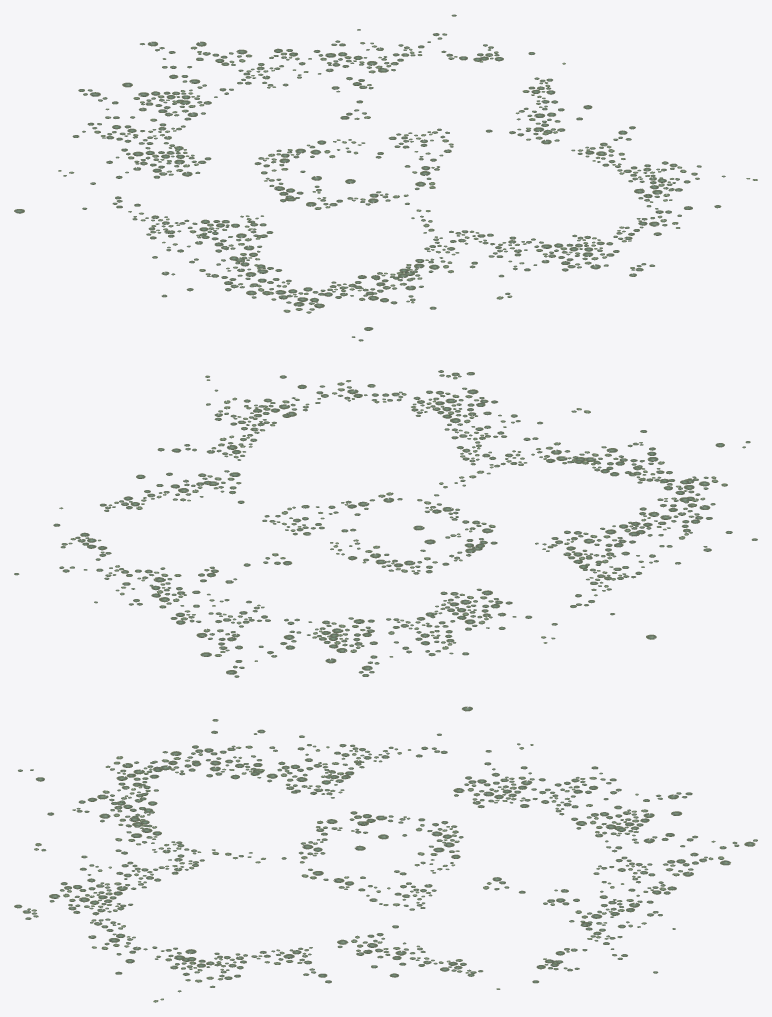
The model's file is Lily_Pads_Pack.fbx.
3 views of the same model, one above another, from view 1: azimuth 30°, elevation 25°; view 2: azimuth 150°, elevation 25°; view 3: azimuth 270°, elevation 25° (orthographic). The views are drawn at different scales.
Size of the model in its own units: 7728 by 103 by 8214.
